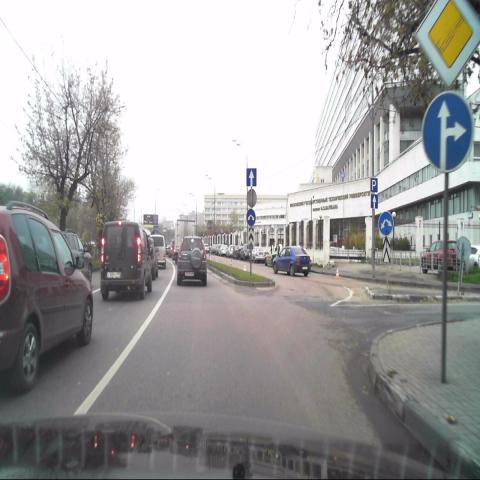4_1_4: (422, 91, 474, 171)
